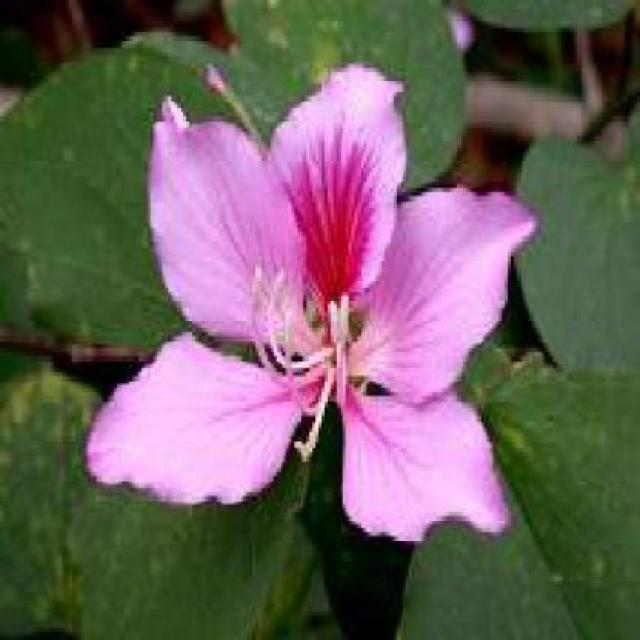flower: (115, 66, 553, 534)
